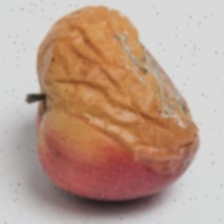apple: (45, 48, 197, 196)
